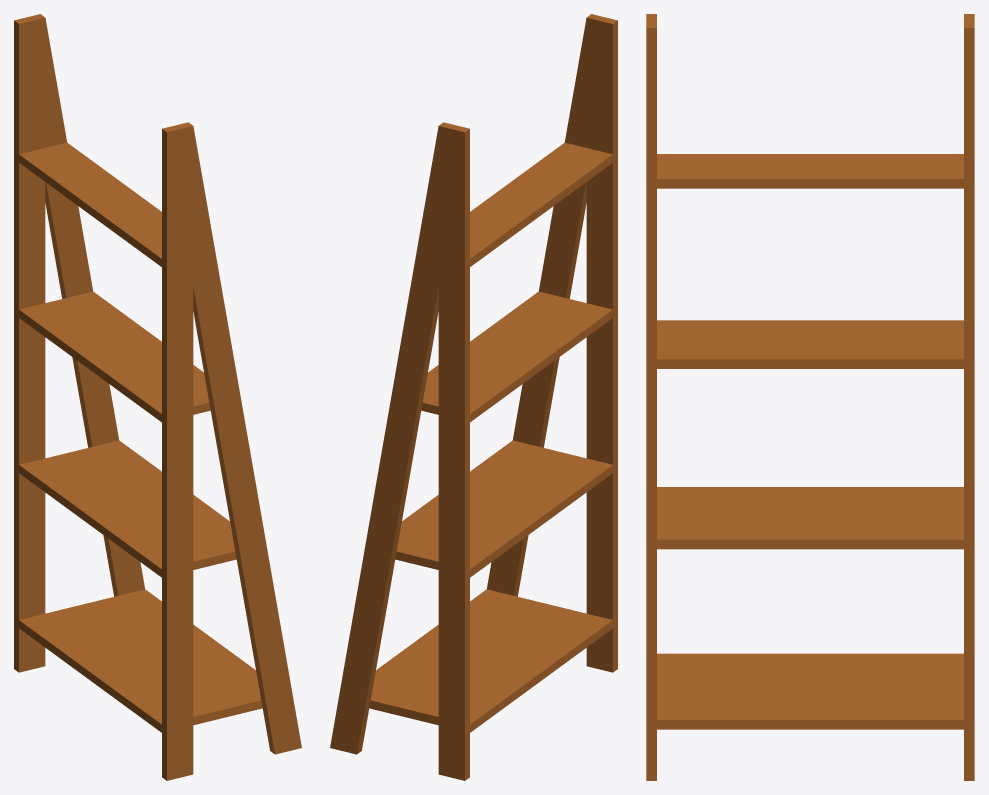
The model's file is shelf5.obj.
3 views of the same model, side by side, from view 1: azimuth 30°, elevation 25°; view 2: azimuth 150°, elevation 25°; view 3: azimuth 270°, elevation 25° (orthographic). The views are drawn at different scales.
Visible parts, largest first — view 1: Mesh1 Group1 cody_s_shelf1 Model, Mesh6 Group6 cody_s_shelf1 Model, Mesh2 Group2 cody_s_shelf1 Model, Mesh3 Group3 cody_s_shelf1 Model, Mesh4 Group4 cody_s_shelf1 Model, Mesh5 Group5 cody_s_shelf1 Model; view 2: Mesh6 Group6 cody_s_shelf1 Model, Mesh1 Group1 cody_s_shelf1 Model, Mesh2 Group2 cody_s_shelf1 Model, Mesh3 Group3 cody_s_shelf1 Model, Mesh4 Group4 cody_s_shelf1 Model, Mesh5 Group5 cody_s_shelf1 Model; view 3: Mesh2 Group2 cody_s_shelf1 Model, Mesh3 Group3 cody_s_shelf1 Model, Mesh4 Group4 cody_s_shelf1 Model, Mesh5 Group5 cody_s_shelf1 Model, Mesh1 Group1 cody_s_shelf1 Model, Mesh6 Group6 cody_s_shelf1 Model.
Boxes of the visible parts, x1,y1,x2,y2 form: Mesh1 Group1 cody_s_shelf1 Model: (162, 122, 301, 780); Mesh6 Group6 cody_s_shelf1 Model: (14, 14, 144, 672); Mesh2 Group2 cody_s_shelf1 Model: (19, 589, 262, 732); Mesh3 Group3 cody_s_shelf1 Model: (19, 440, 236, 577); Mesh4 Group4 cody_s_shelf1 Model: (19, 291, 210, 422); Mesh5 Group5 cody_s_shelf1 Model: (19, 142, 161, 266); Mesh6 Group6 cody_s_shelf1 Model: (330, 122, 469, 780); Mesh1 Group1 cody_s_shelf1 Model: (487, 14, 617, 672); Mesh2 Group2 cody_s_shelf1 Model: (369, 589, 612, 732); Mesh3 Group3 cody_s_shelf1 Model: (395, 440, 612, 577); Mesh4 Group4 cody_s_shelf1 Model: (421, 291, 612, 422); Mesh5 Group5 cody_s_shelf1 Model: (470, 142, 612, 266); Mesh2 Group2 cody_s_shelf1 Model: (657, 653, 963, 729); Mesh3 Group3 cody_s_shelf1 Model: (657, 487, 963, 549); Mesh4 Group4 cody_s_shelf1 Model: (657, 320, 963, 368); Mesh5 Group5 cody_s_shelf1 Model: (657, 154, 963, 188); Mesh1 Group1 cody_s_shelf1 Model: (646, 14, 656, 780); Mesh6 Group6 cody_s_shelf1 Model: (964, 14, 974, 780).
Bounding box in the file's own units: 0.3239 × 1.49 × 0.635.
